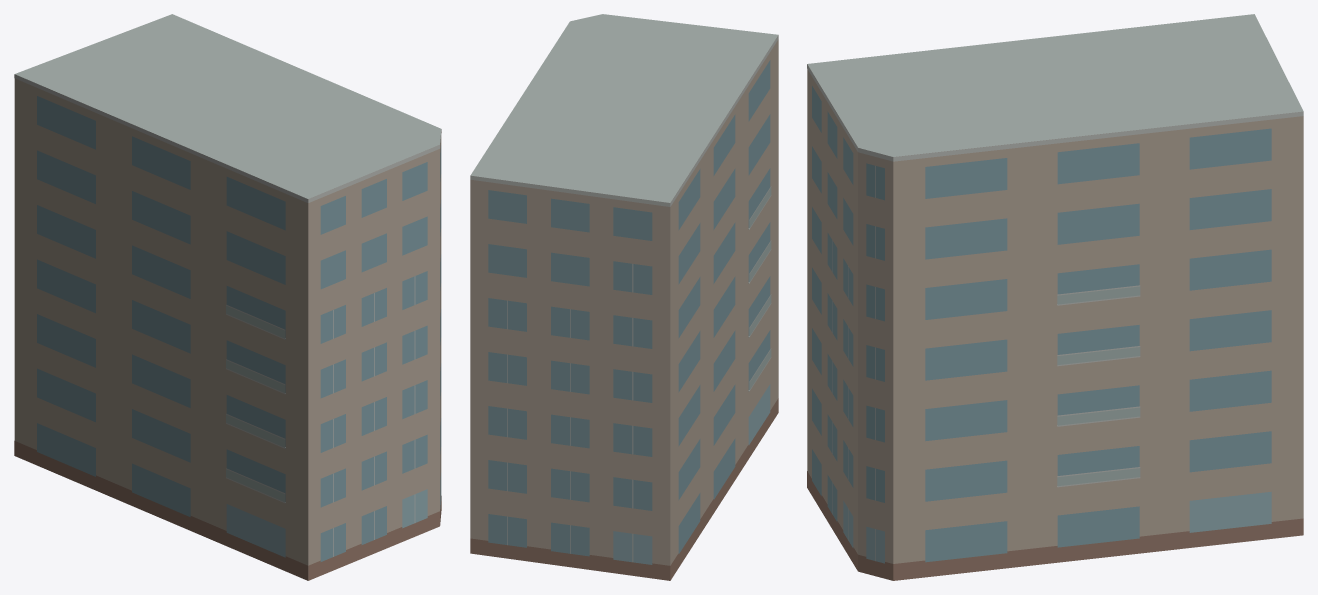
The model's file is survey-upis-32832235.glb.
The picture shows the model from 3 angles, left to right: view 1: azimuth 30°, elevation 25°; view 2: azimuth 150°, elevation 25°; view 3: azimuth 270°, elevation 25°; orthographic projection. The views are drawn at different scales.
Parts seen in each view (by area): view 1: survey-upis-32832235.tmp; view 2: survey-upis-32832235.tmp; view 3: survey-upis-32832235.tmp.
Part boxes in pixels (<box>): survey-upis-32832235.tmp: <box>14,14,441,580</box>; survey-upis-32832235.tmp: <box>470,14,778,580</box>; survey-upis-32832235.tmp: <box>807,14,1303,580</box>.
Bounding box in the file's own units: 16.45 × 22.7 × 24.12.
